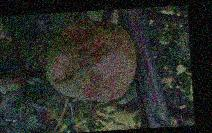rotten apple: (45, 16, 137, 104)
